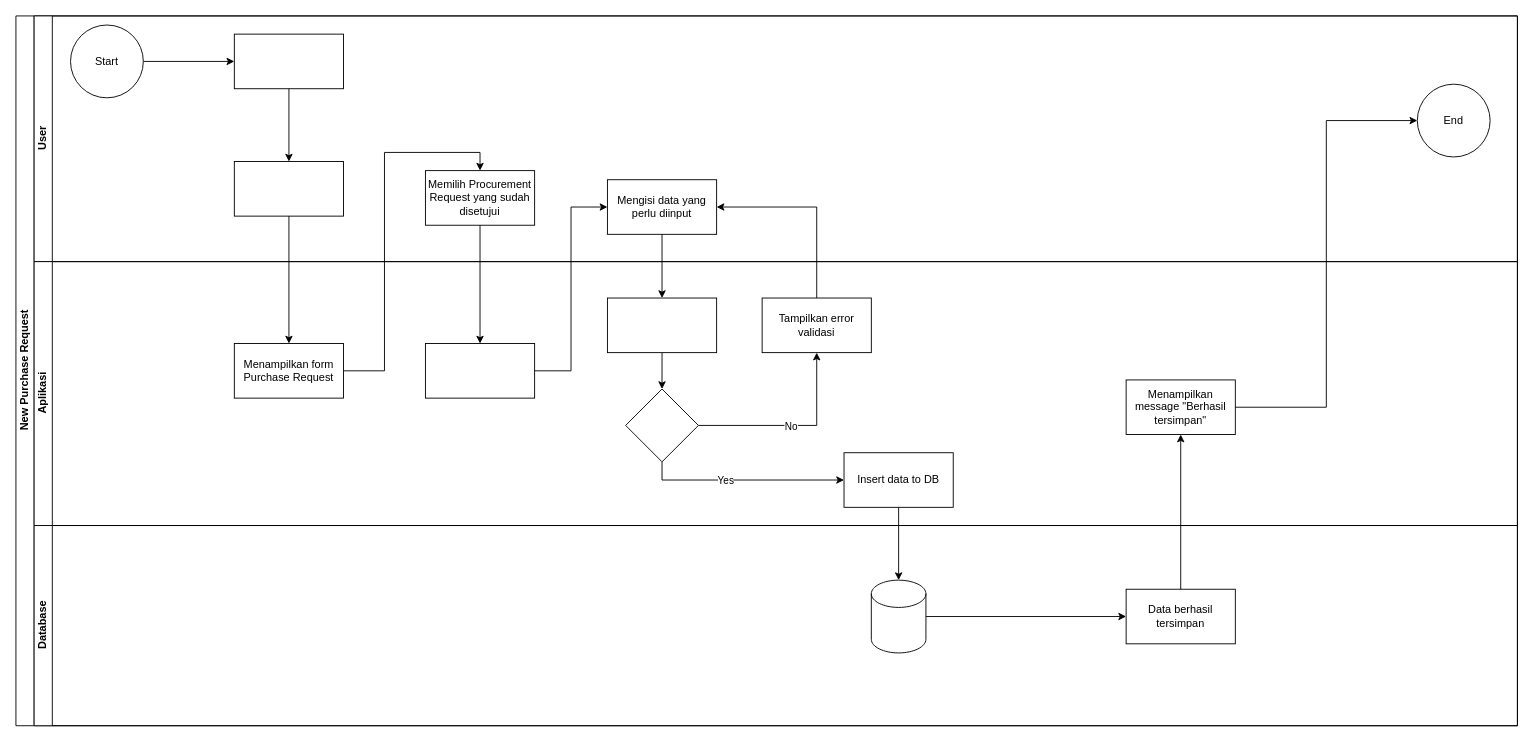
Some shapes in this 1533 by 742 pixel diagram are drawn without their labels. The centre of each missing label's shape, as x and y in pixels:
Data valid?: point 661,425
Masuk ke menu Purchase > Request: point 288,61
Masuk menu Tambah (+ button): point 288,188
Mengeluarkan data Procurement Request berdasarkan pilihan user: point 480,370
Menyimpan data: point 898,616
Validasi data yang diinput oleh user: point 662,325
